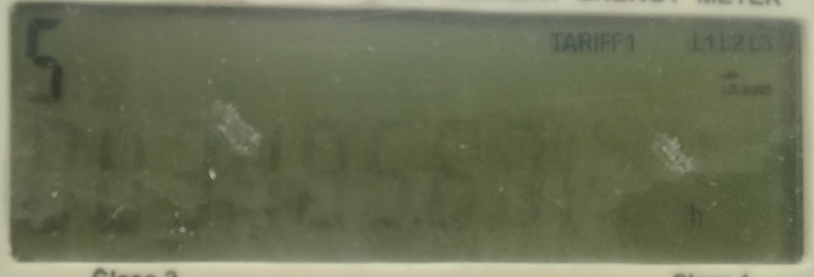digit: (484, 108, 554, 243), (86, 105, 157, 235), (424, 113, 492, 238), (154, 102, 214, 238), (14, 113, 73, 238), (295, 105, 351, 235), (365, 111, 416, 232), (254, 108, 286, 238)
